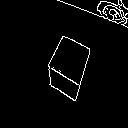cube: (35, 32, 103, 109)
